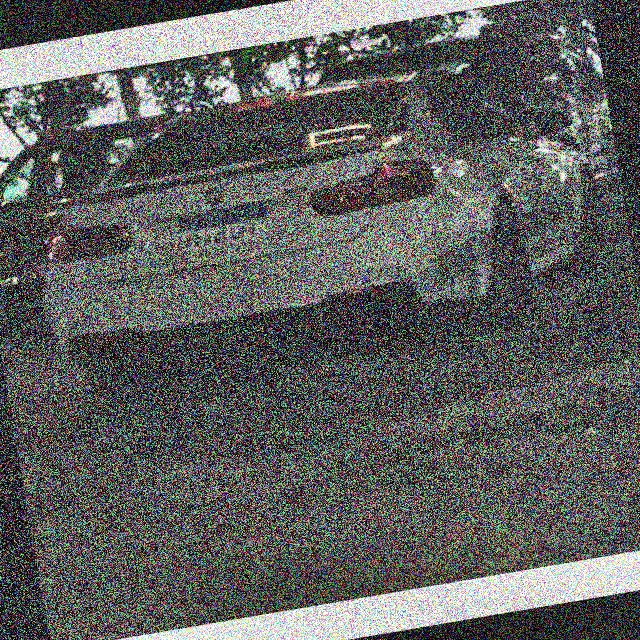License Plate: (171, 198, 275, 258)
